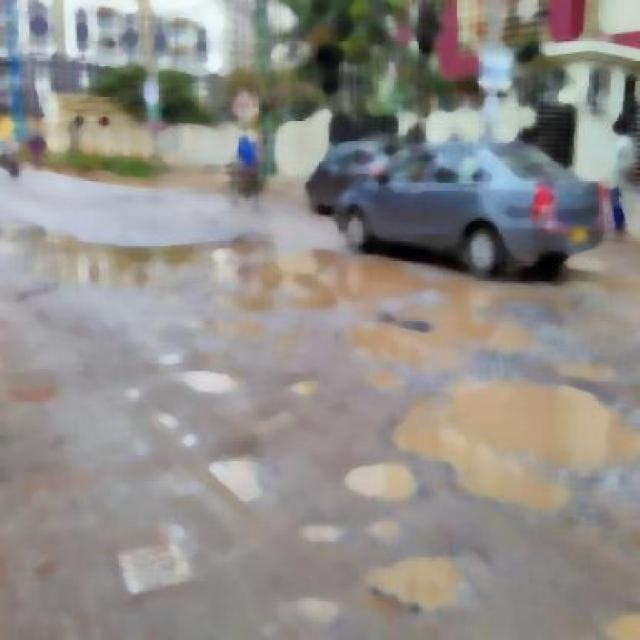pothole: (420, 382, 623, 508), (380, 537, 474, 622), (204, 436, 270, 514), (352, 444, 418, 506)
